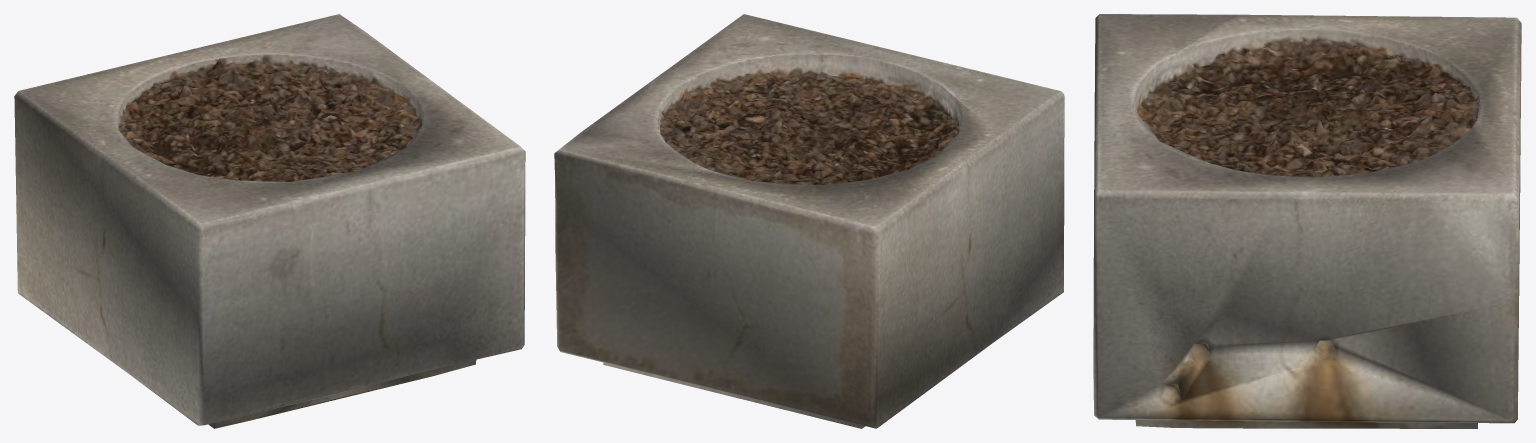
The model's file is pot_taper.glb.
3 renders of one model, left to right at view 1: azimuth 30°, elevation 25°; view 2: azimuth 150°, elevation 25°; view 3: azimuth 270°, elevation 25°, orthographic. The views are drawn at different scales.
Parts seen in each view (by area): view 1: Megascans pot_taper; view 2: Megascans pot_taper; view 3: Megascans pot_taper.
Boxes of the visible parts, x1=… form: Megascans pot_taper: x1=14, y1=14, x2=525, y2=428; Megascans pot_taper: x1=554, y1=14, x2=1064, y2=428; Megascans pot_taper: x1=1093, y1=14, x2=1521, y2=428.
Bounding box in the file's own units: 1.08 × 0.7072 × 1.07.
1 material, 1 textured.
